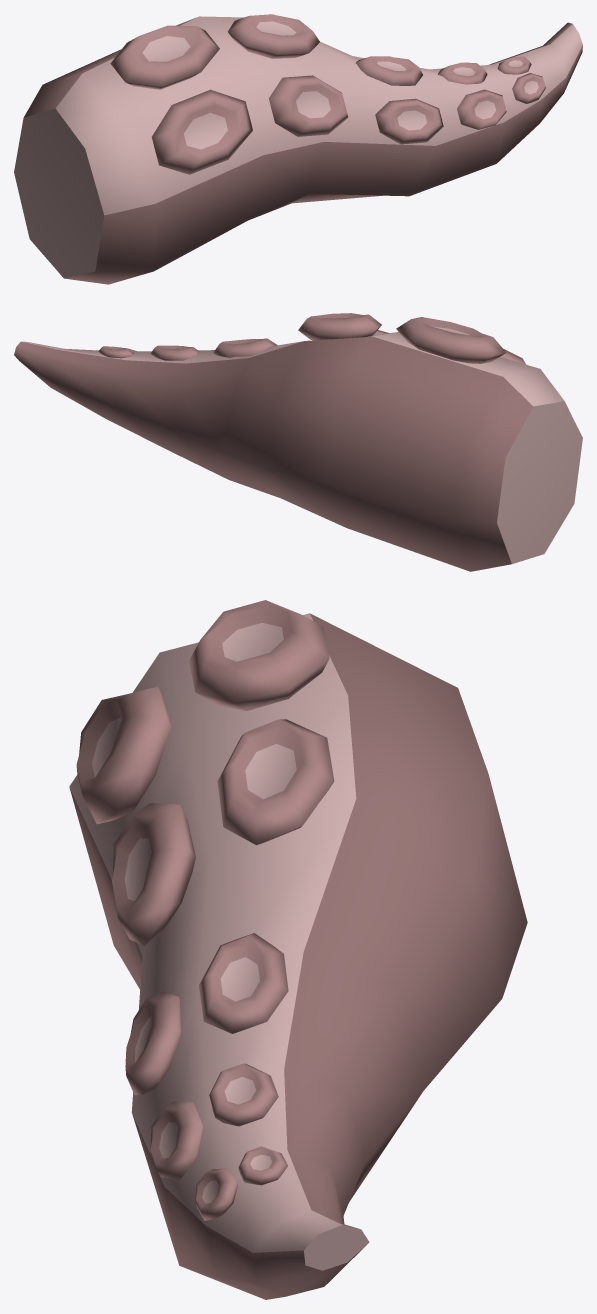
File: octopus ingredient.fbx
3 renders of one model, top to bottom at view 1: azimuth 30°, elevation 25°; view 2: azimuth 150°, elevation 25°; view 3: azimuth 270°, elevation 25°, orthographic. The views are drawn at different scales.
Visible parts, largest first — view 1: tentacle_low5; view 2: tentacle_low5; view 3: tentacle_low5.
Boxes of the visible parts, box(x1,y1,x2,y2) form: tentacle_low5: box(14, 14, 582, 284); tentacle_low5: box(14, 313, 582, 571); tentacle_low5: box(69, 600, 527, 1299).
Bounding box in the file's own units: 49.34 × 20.89 × 19.34.
